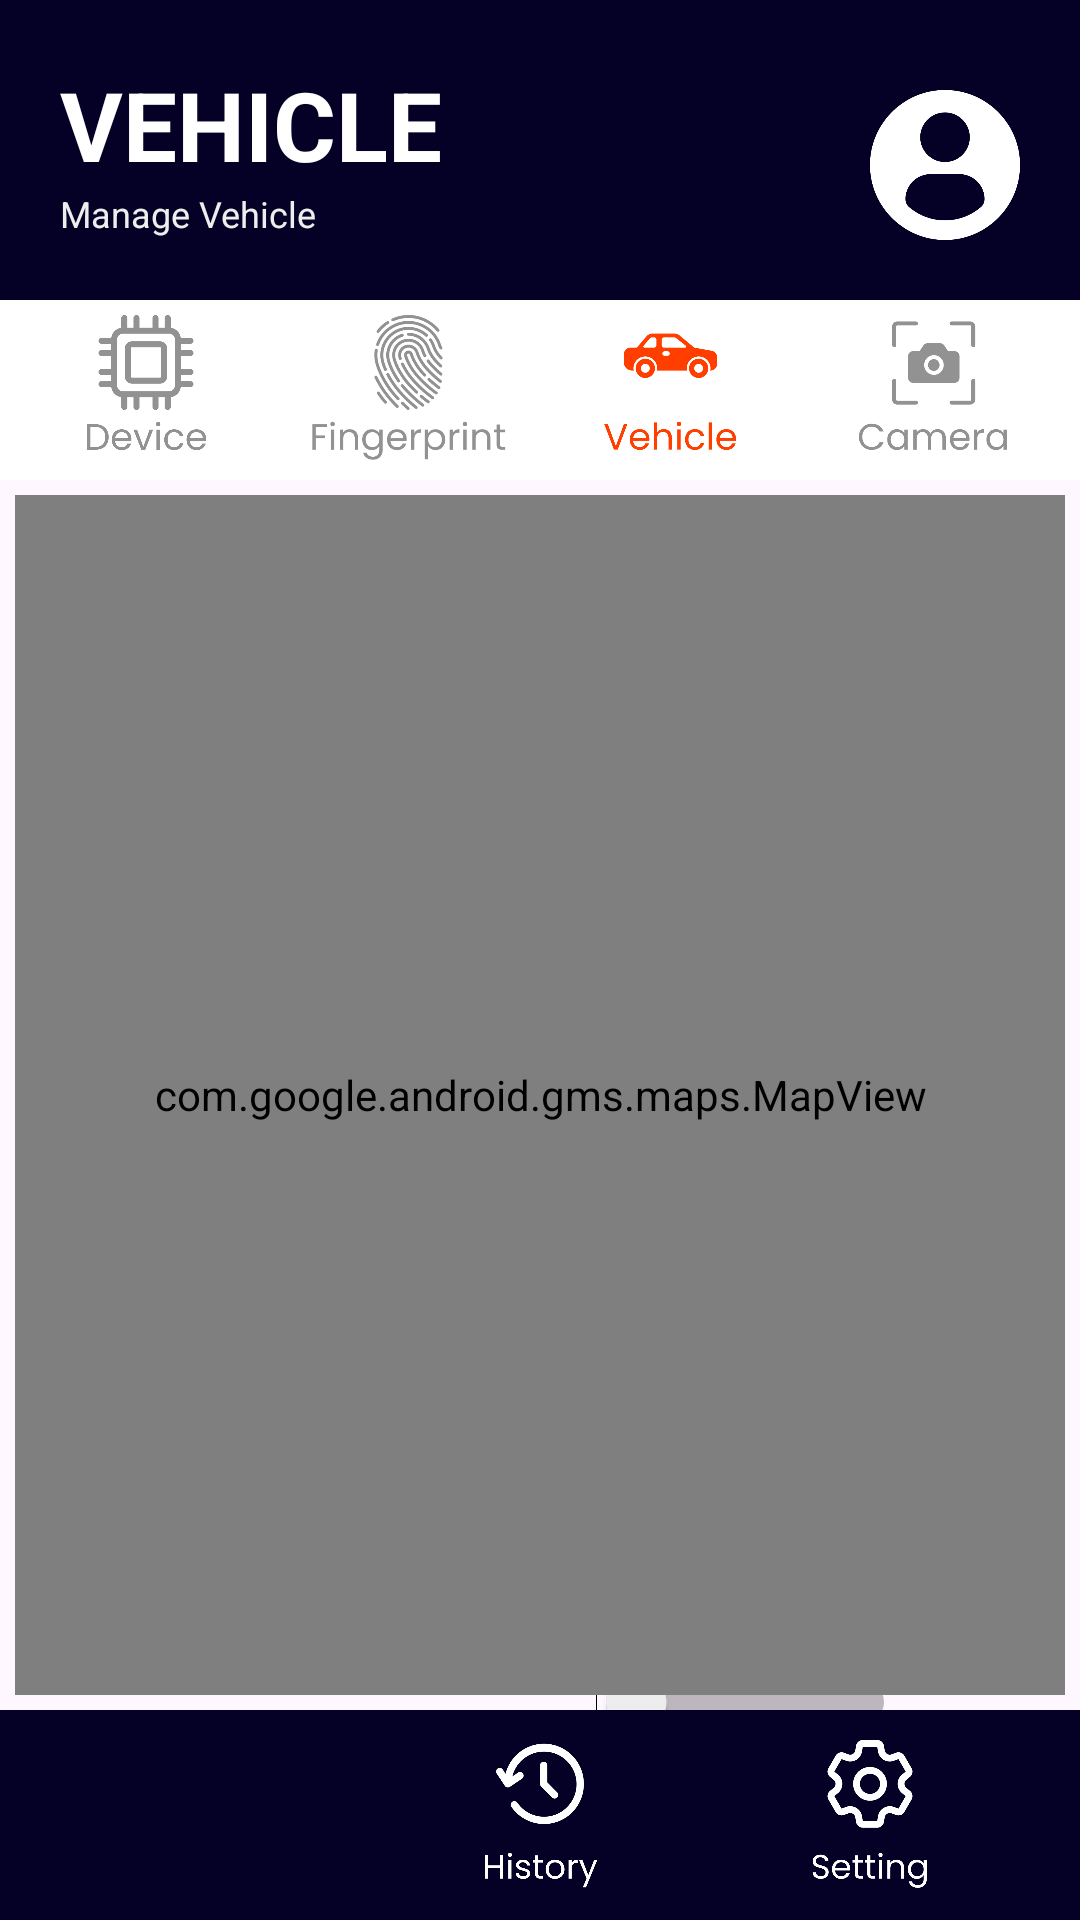

Icon bounding boxes for this 1080*1920 phone screenshot, format [x1=x1, y1=y1, x2=x2, y2=y2]:
capture: [x1=859, y1=321, x2=1007, y2=450]
profile: [x1=870, y1=90, x2=1020, y2=240]
